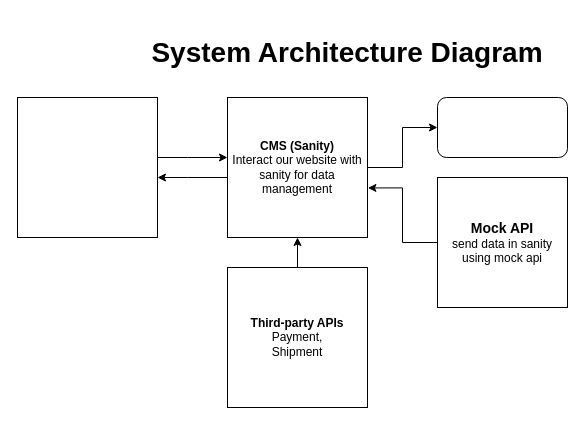
The diagram is 585 pixels wide and 425 high, and some of its shapes have lost their labels. Here are the shapes that lost their labels. From the top down, the box of each, then its label:
(436, 96, 568, 158): Database
(16, 96, 158, 238): Frontend Next.js
